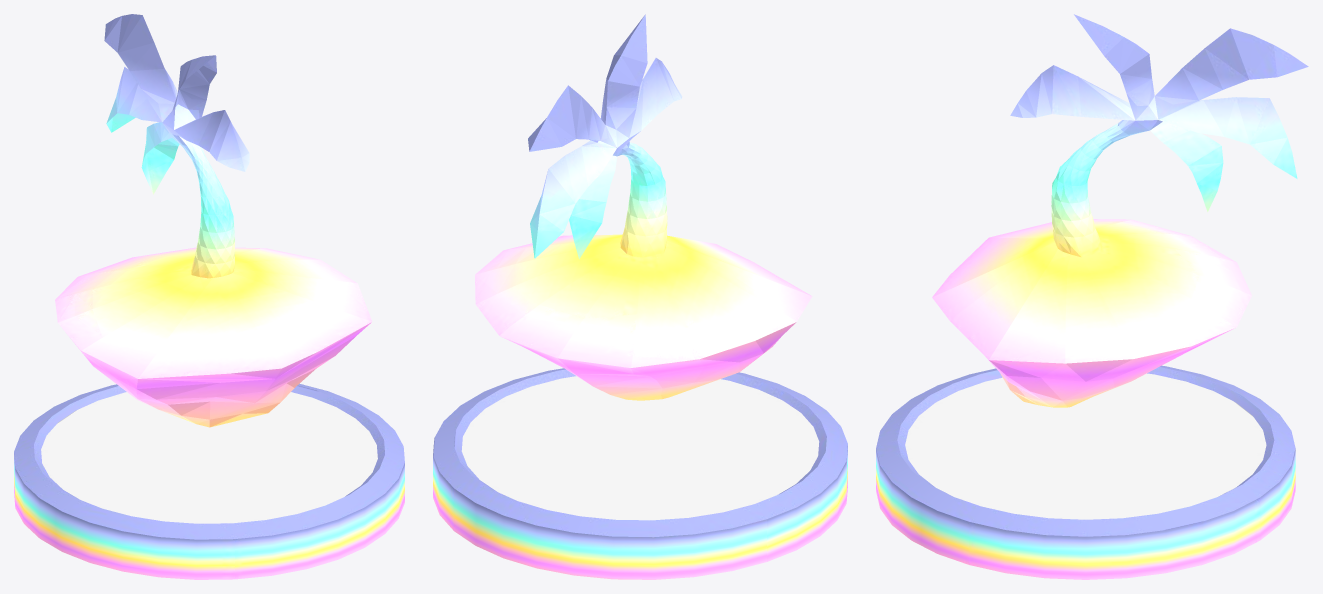
The model's file is ultraPalm.gltf.
3 renders of one model, left to right at view 1: azimuth 30°, elevation 25°; view 2: azimuth 150°, elevation 25°; view 3: azimuth 270°, elevation 25°, orthographic. The views are drawn at different scales.
Parts seen in each view (by area): view 1: Stand, ultraPalm; view 2: Stand, ultraPalm; view 3: Stand, ultraPalm.
Part boxes in pixels (box(x1,y1,x2,y2)): Stand: box(14, 383, 404, 579); ultraPalm: box(55, 14, 372, 427); Stand: box(433, 368, 847, 579); ultraPalm: box(475, 14, 812, 400); Stand: box(876, 365, 1295, 579); ultraPalm: box(932, 14, 1308, 407).
Size of the model in its own units: 0.1547 by 0.1977 by 0.1596.
Materials: 1 (1 with a texture image).
